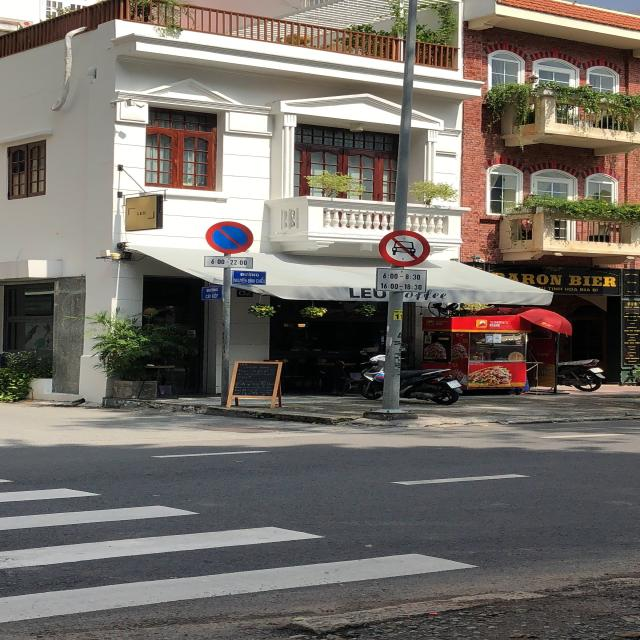Bien bao cam do xe: (202, 220, 258, 255)
Bien bao cam xe oto: (372, 227, 434, 268)
